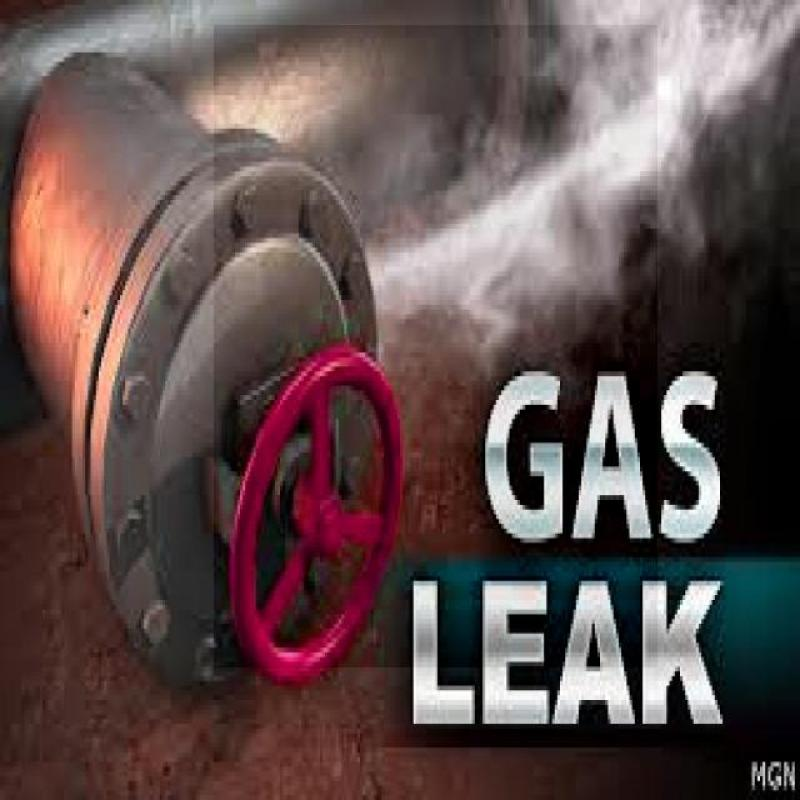Fracture: (276, 165, 554, 354)
